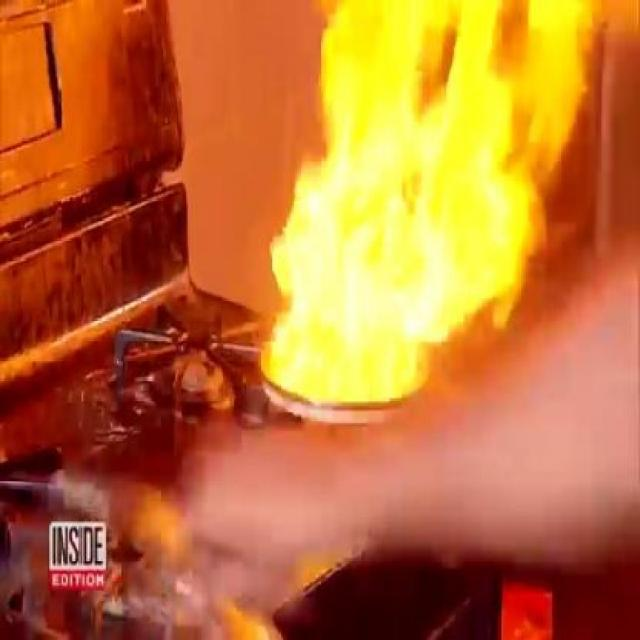fire: (280, 18, 423, 394), (445, 26, 513, 262)
